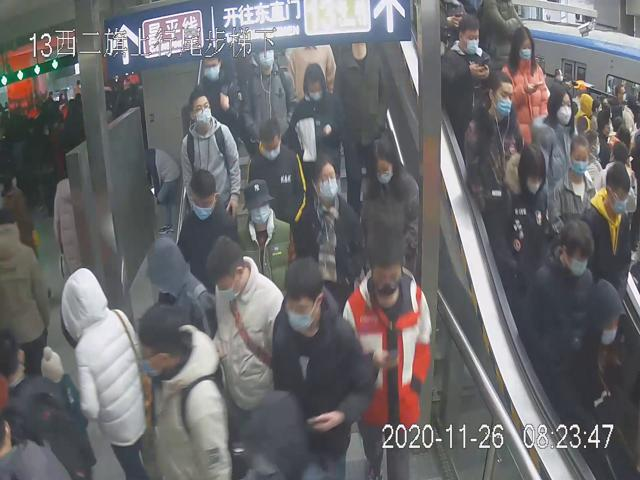person: (341, 238, 434, 480), (272, 256, 370, 480), (206, 233, 284, 453), (291, 153, 361, 307), (486, 144, 553, 304), (358, 129, 422, 281), (461, 72, 524, 225), (179, 86, 243, 220), (177, 166, 239, 298), (243, 116, 303, 240), (289, 62, 345, 186), (236, 178, 293, 293), (500, 26, 548, 153), (526, 81, 576, 188), (190, 48, 240, 139)
